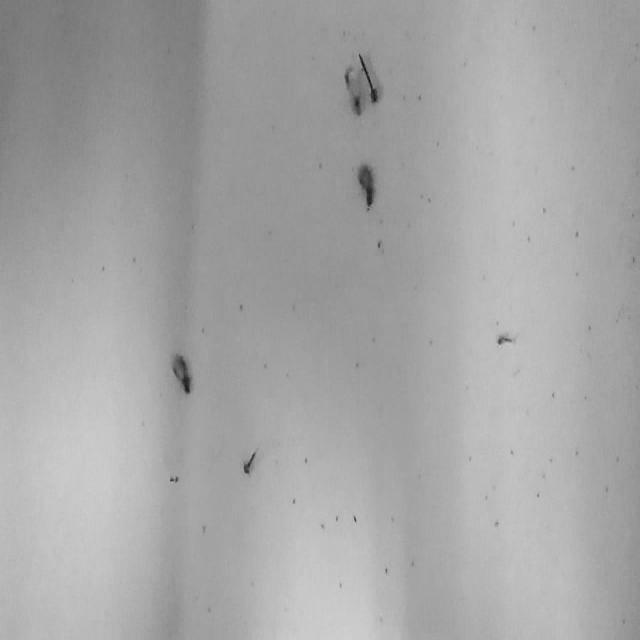larvas: (358, 52, 378, 102), (344, 64, 361, 118), (170, 352, 190, 392), (358, 163, 374, 204), (241, 446, 259, 474), (496, 332, 518, 344)
